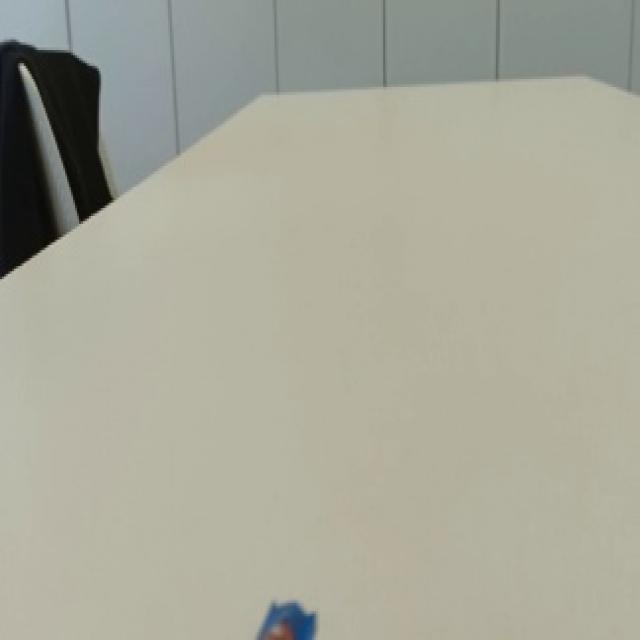1_NanoBug_Azul: (238, 573, 328, 640)
